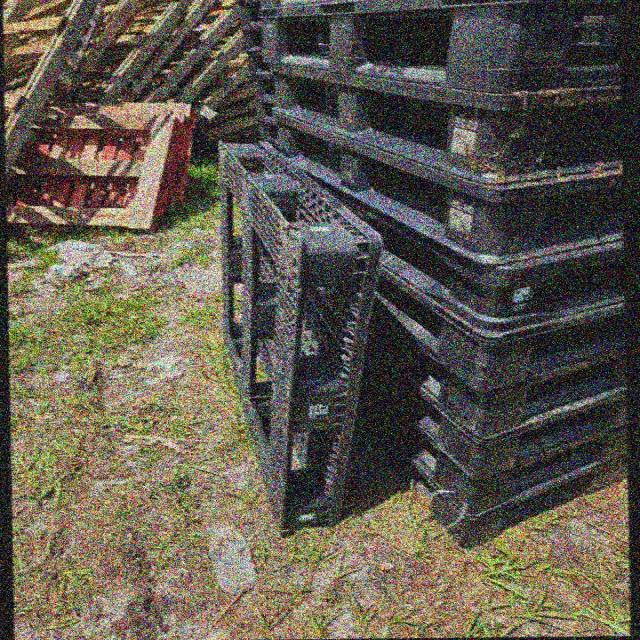non-igps: (212, 137, 387, 541), (285, 165, 637, 343), (264, 102, 633, 270), (257, 58, 632, 193), (340, 284, 640, 450), (0, 0, 264, 178), (320, 382, 640, 526), (355, 255, 640, 400), (247, 0, 632, 106), (337, 357, 640, 488), (315, 434, 640, 555), (0, 95, 206, 240)
